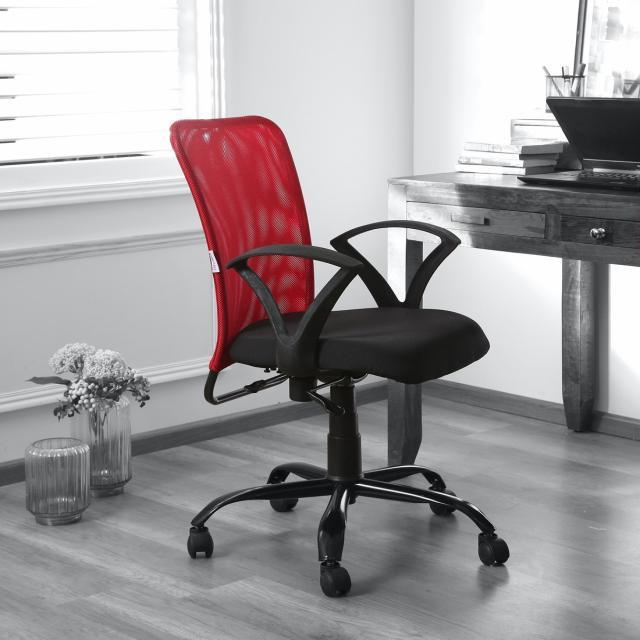chair: (167, 117, 485, 463)
table: (377, 155, 640, 477)
